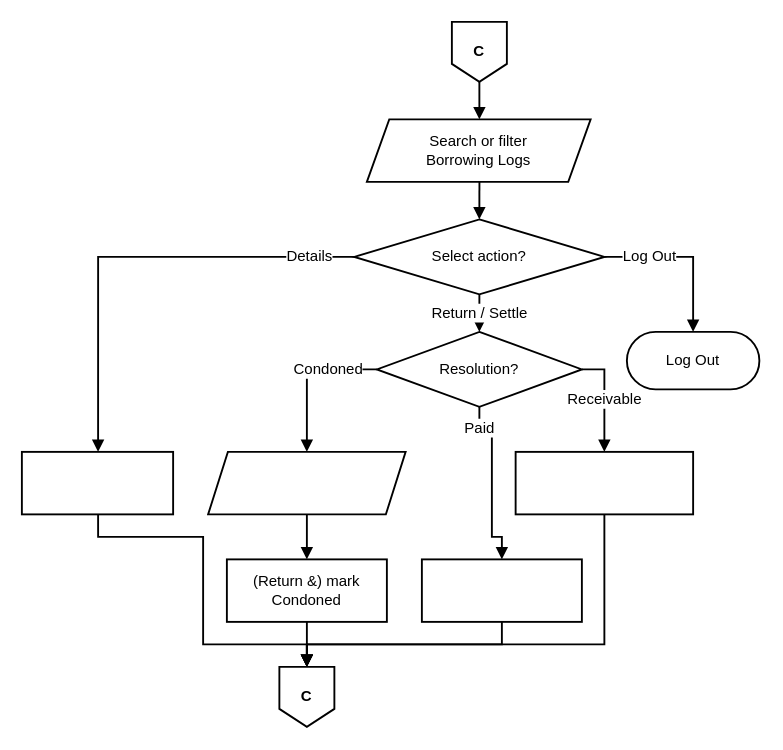
Image size: 783x750. Some labels were removed from this diagram. The centre of each missing label's shape, as x and y in pixels:
"(Return &) mark Paid" belongs at pixel 501 590.
"Enter remarks (min 5 chars)" belongs at pixel 306 482.
"Return only; keep Receivable" belongs at pixel 604 482.
"View borrower, book & penalty" belongs at pixel 97 482.
